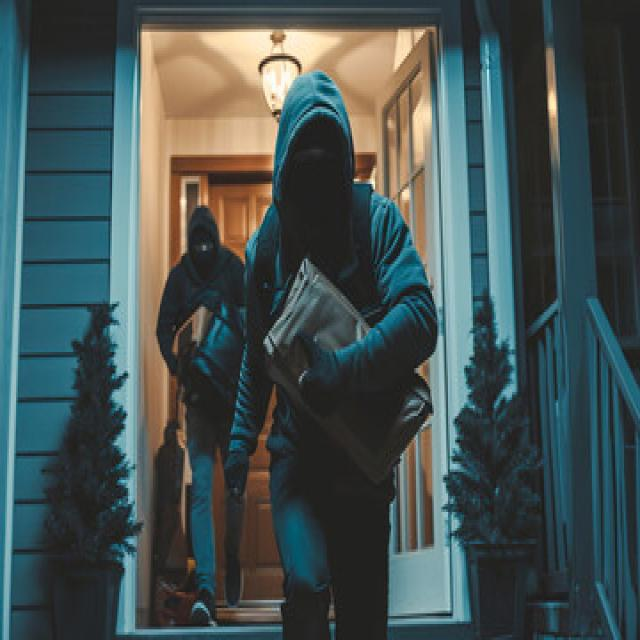person-with-mask: (242, 81, 457, 638)
